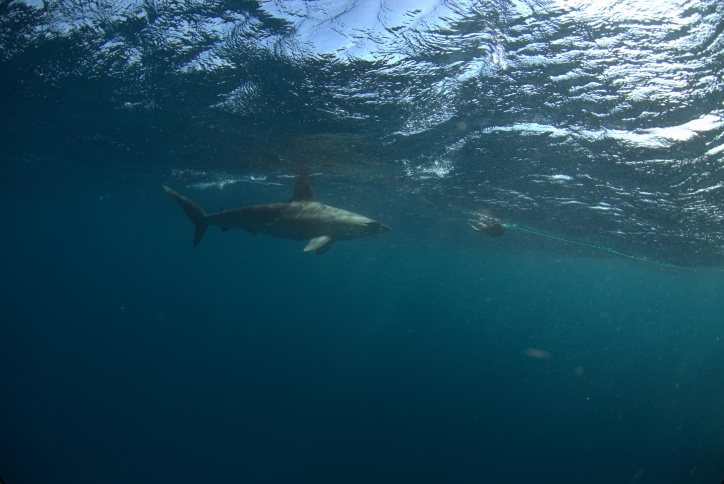Hammer: (156, 156, 395, 281)
